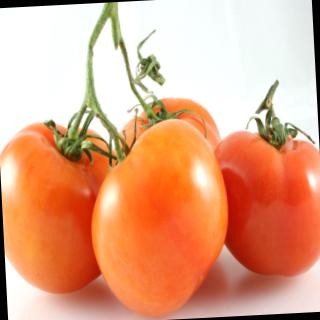Tomat: (1, 115, 130, 298), (211, 78, 320, 282)
